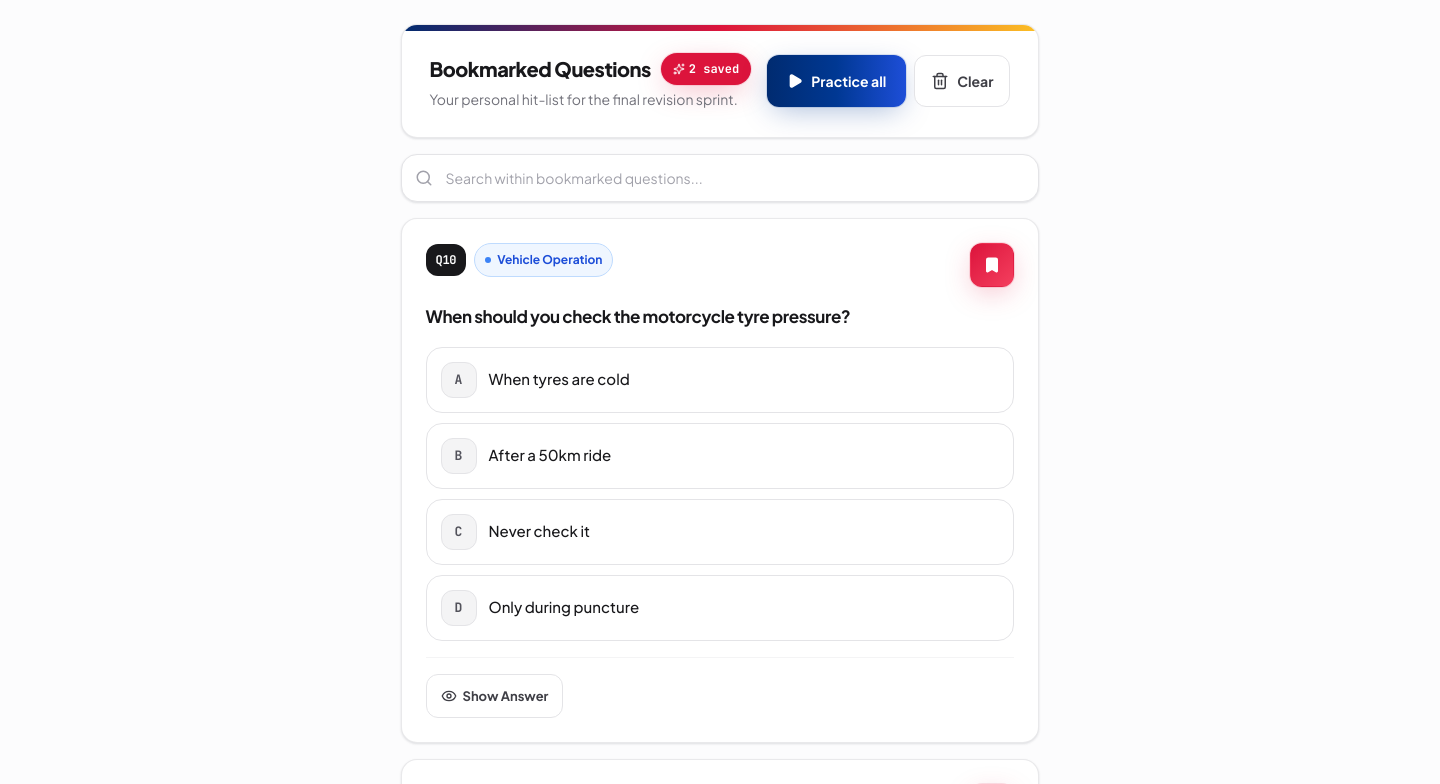
Test: BookmarksView › opens confirmation modal and handles cancel and clear all actions
Click the button with test id "clear-all-bookmarks-btn".
click(962, 81)  # box x1=914 y1=55 x2=1010 y2=107
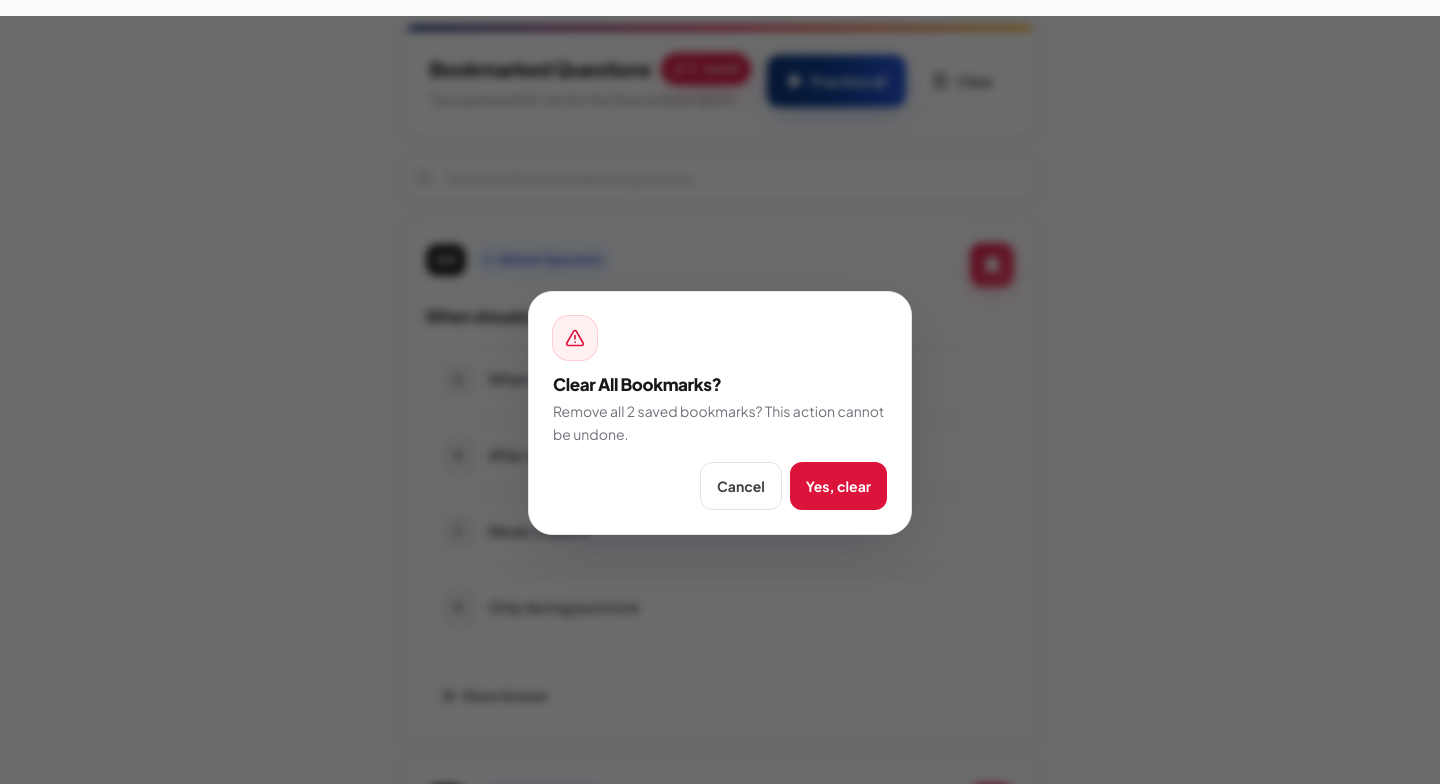
Expected: the heading "Clear All Bookmarks?" is shown, x1=553 y1=373 x2=722 y2=395
Cancel first
Click the button "Cancel".
click(741, 486)  # box x1=700 y1=462 x2=782 y2=510
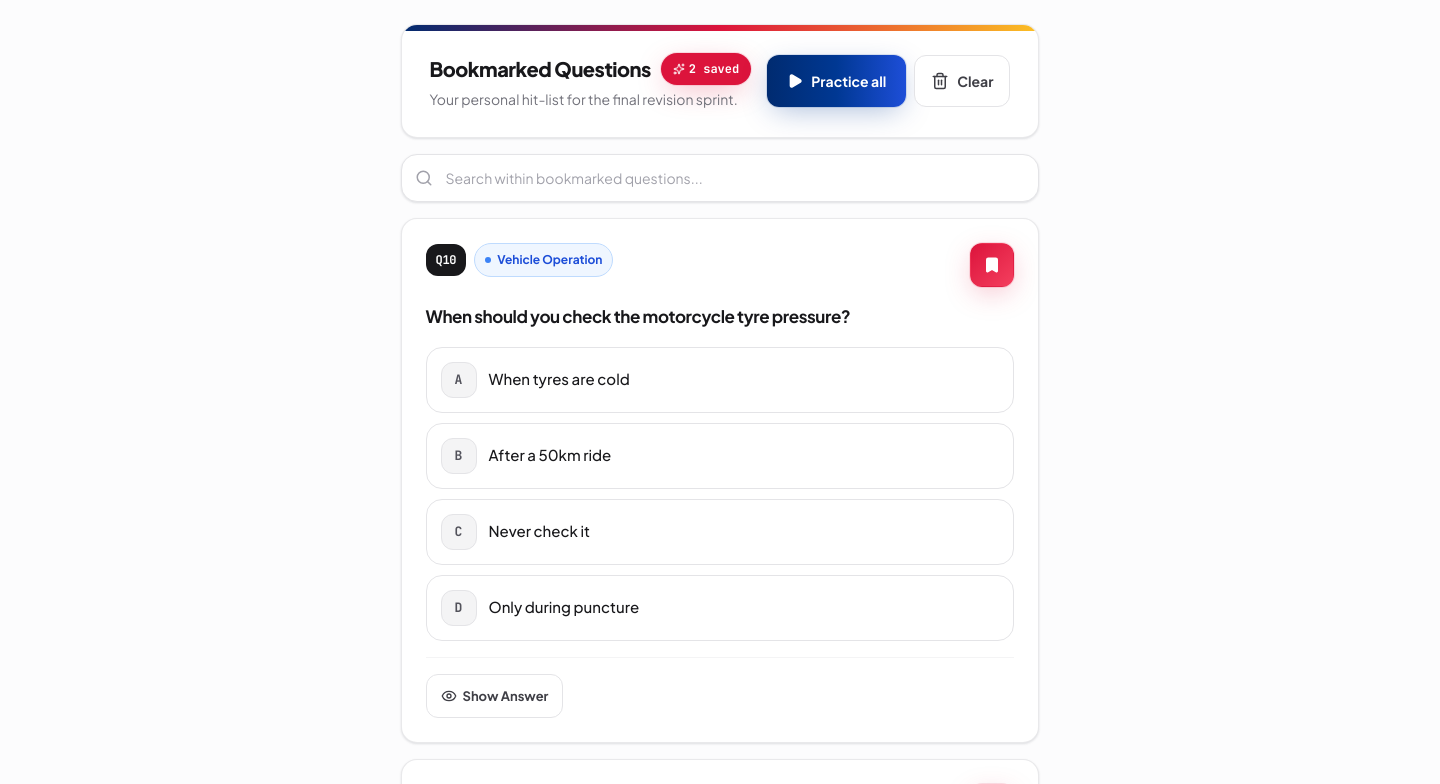
Expected: the heading "Clear All Bookmarks?" is gone
Reopen and confirm
Click the button with test id "clear-all-bookmarks-btn".
click(962, 81)  # box x1=914 y1=55 x2=1010 y2=107
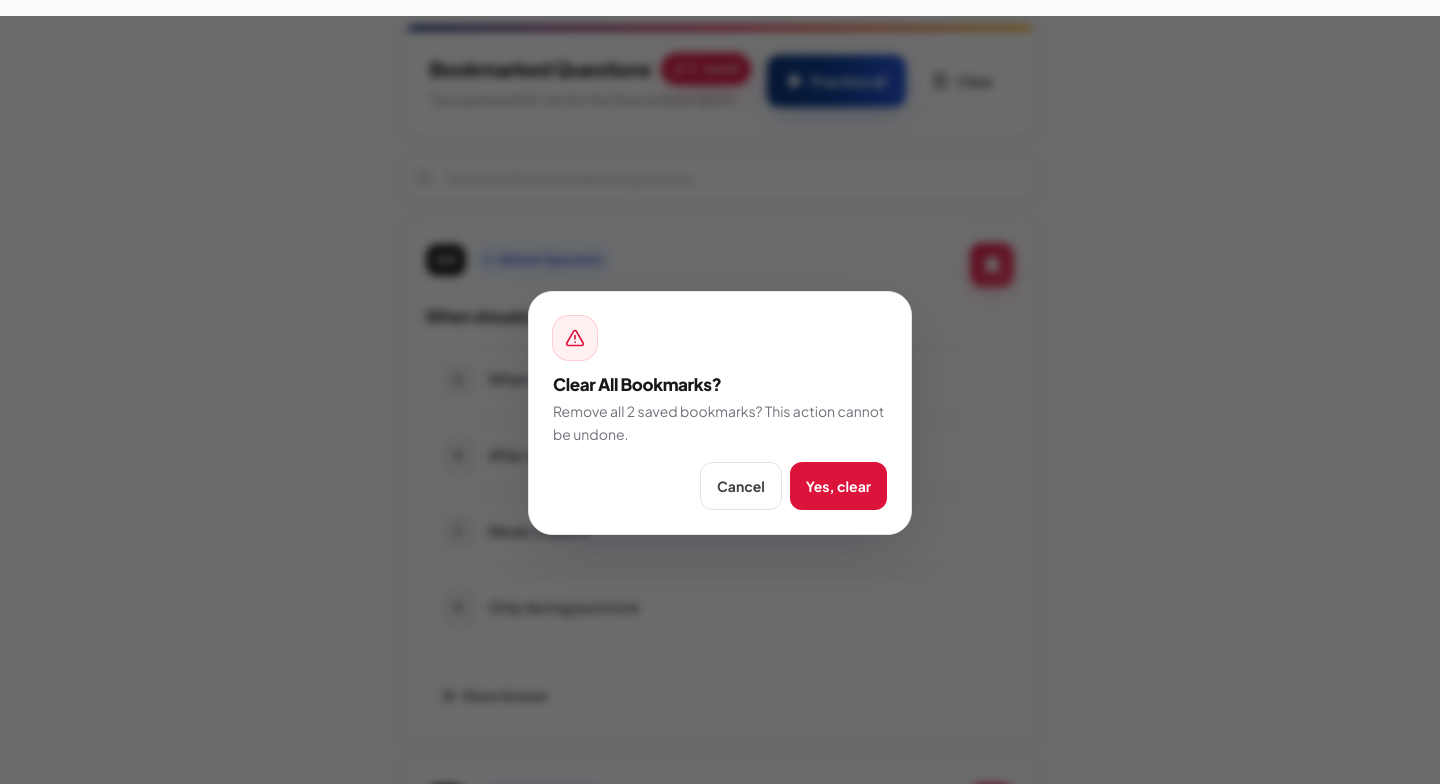
Click the button with test id "confirm-clear-bookmarks".
click(838, 486)  # box x1=790 y1=462 x2=887 y2=510
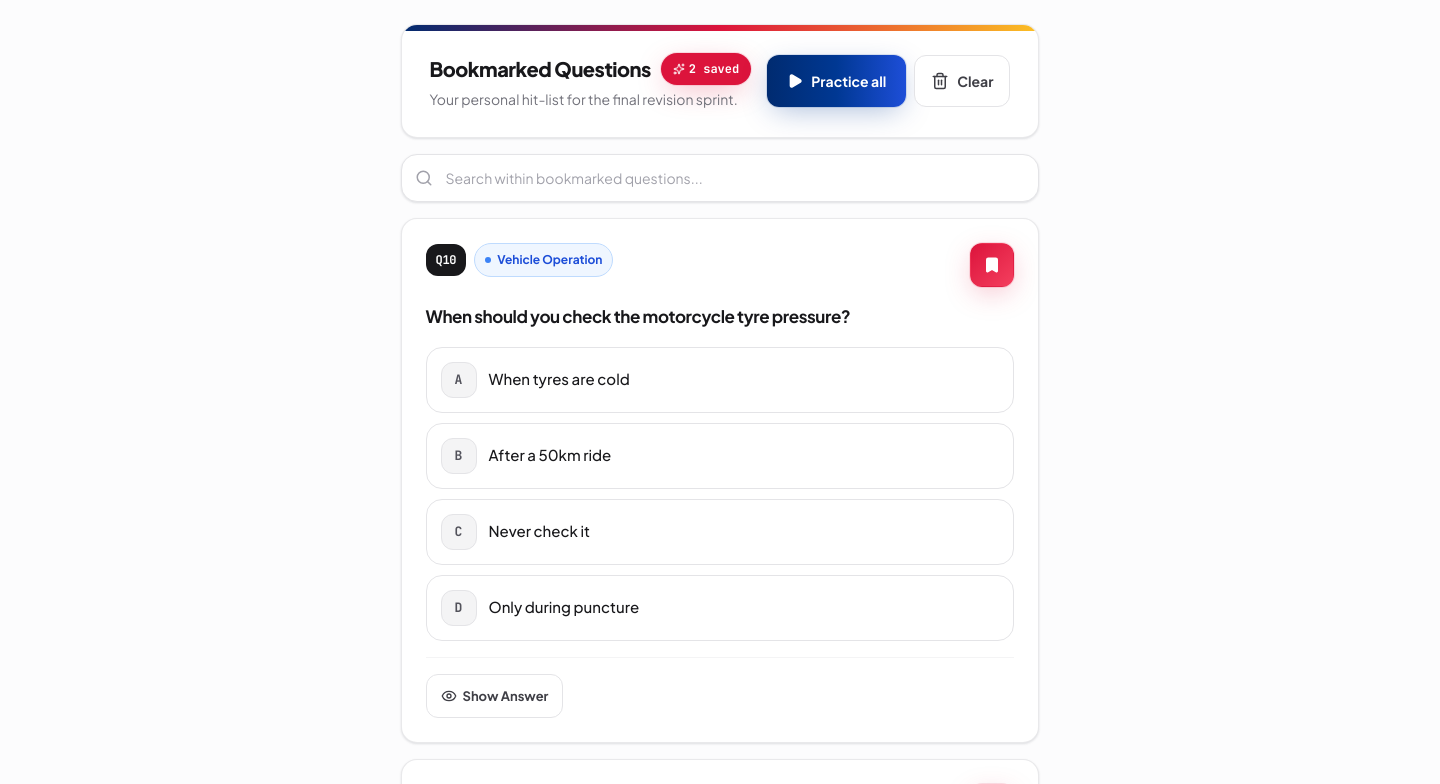
Expected: the heading "Clear All Bookmarks?" is gone
